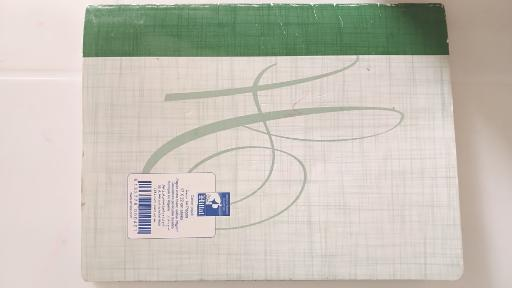notebook: (82, 4, 466, 284)
